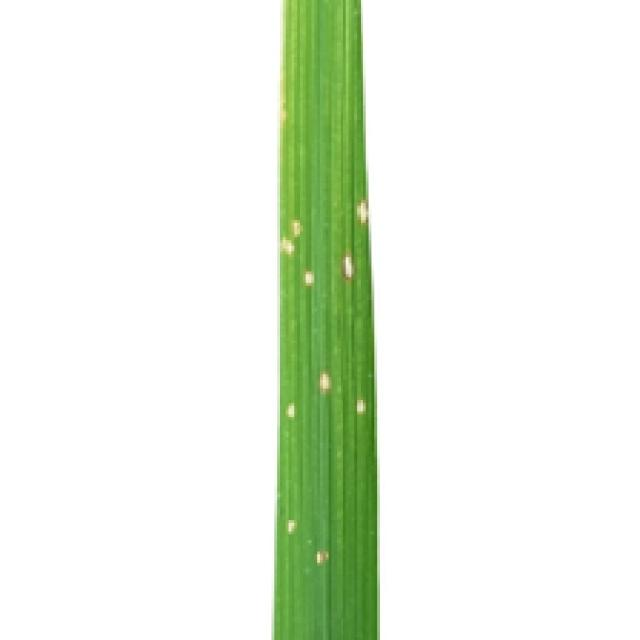Rice___Brown_Spot: (274, 0, 380, 637)
